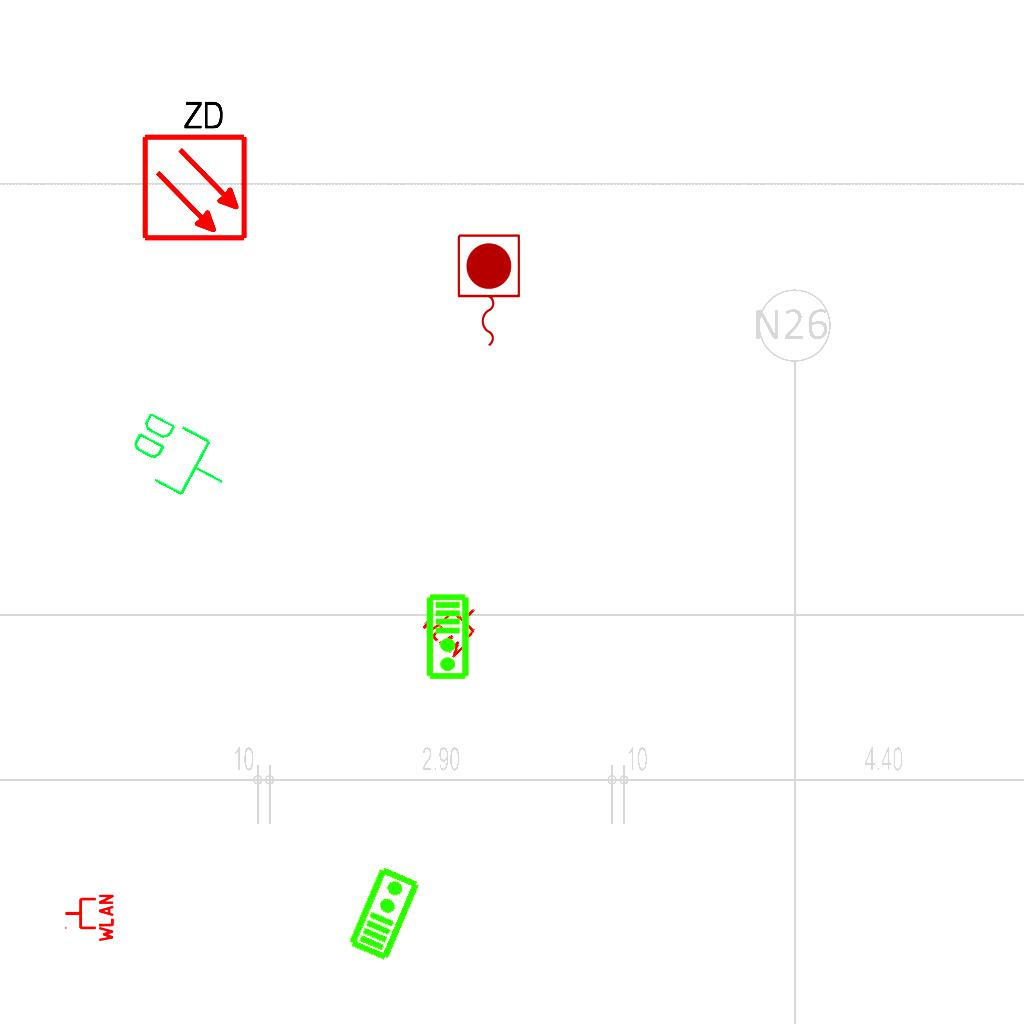Datenanschluss_zweifach: (117, 403, 242, 514)
Gegensprechanlage_mit_Video: (344, 863, 423, 963), (425, 593, 472, 681)
WLAN: (417, 587, 491, 661), (63, 892, 115, 944)
ZD_Melder_in_Zwischendecke_mit_Revisionsoeffnung_mind_40_x_40_cm: (136, 94, 250, 243)
Zugtaster: (452, 230, 524, 352)
